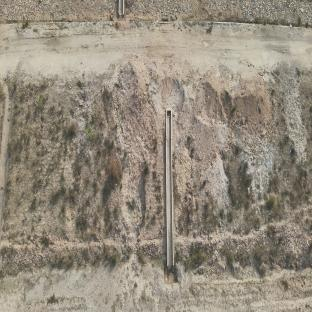slope_drain: (0, 84, 17, 240), (165, 109, 174, 269)
